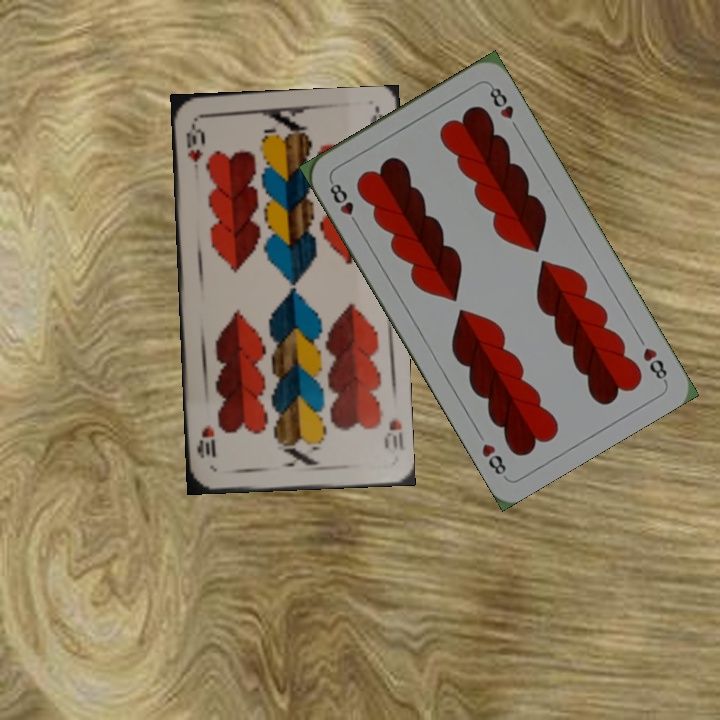H10: (182, 118, 206, 165), (380, 414, 405, 453)
H8: (325, 176, 362, 230), (639, 343, 670, 385)
